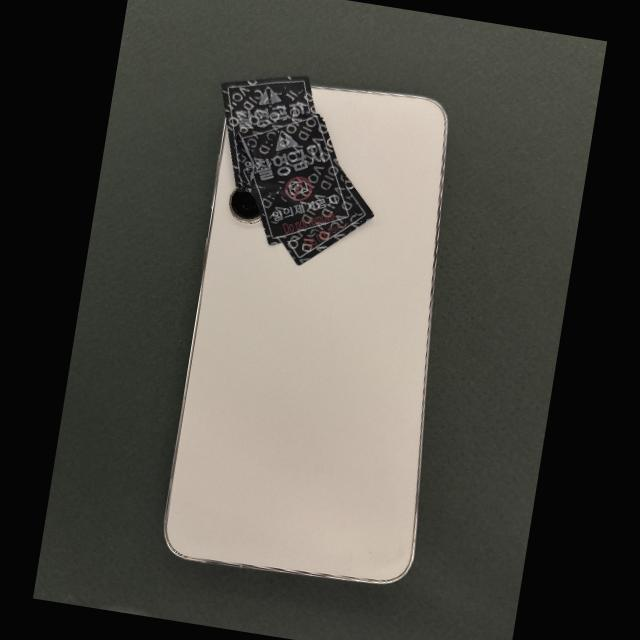lens: (230, 190, 260, 223)
phone: (162, 82, 449, 585)
sticker: (238, 113, 356, 247), (222, 76, 316, 189), (284, 170, 373, 266)
